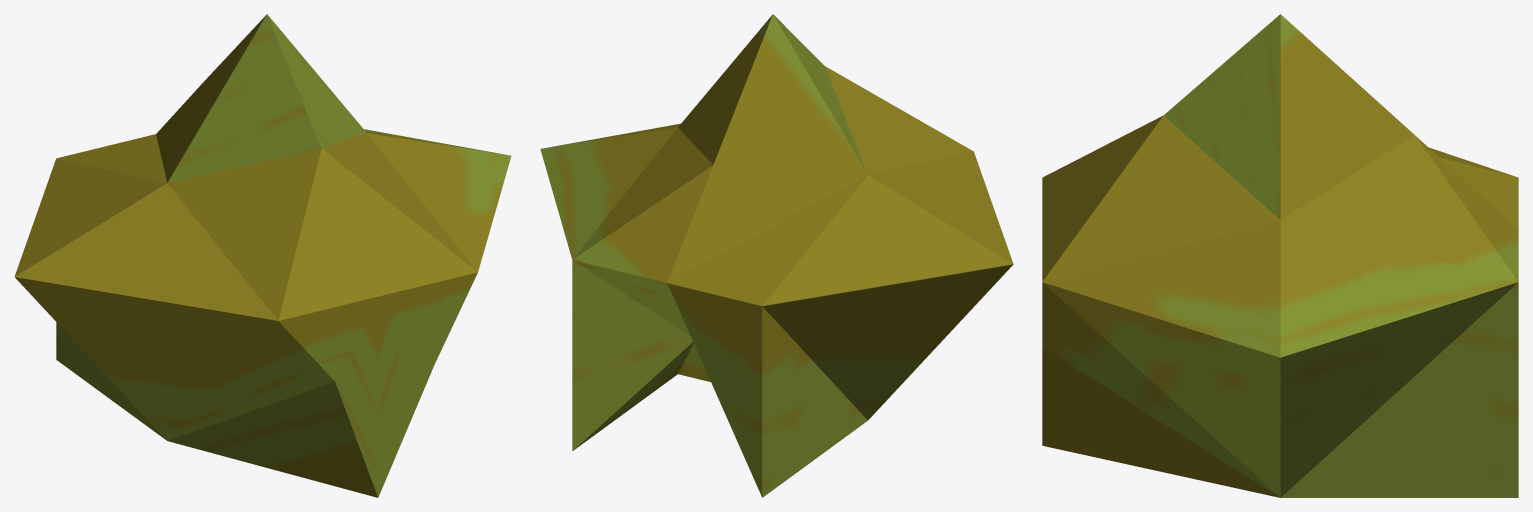
The model's file is ene.obj.
The picture shows the model from 3 angles, left to right: view 1: azimuth 30°, elevation 25°; view 2: azimuth 150°, elevation 25°; view 3: azimuth 270°, elevation 25°; orthographic projection. The views are drawn at different scales.
Parts seen in each view (by area): view 1: Cube; view 2: Cube; view 3: Cube.
Boxes of the visible parts, box(x1,y1,x2,y2) form: Cube: box(14, 14, 511, 497); Cube: box(540, 14, 1013, 497); Cube: box(1042, 14, 1518, 497).
Size of the model in its own units: 3.37 by 2.61 by 2.61.
Materials: 1 (1 with a texture image).
